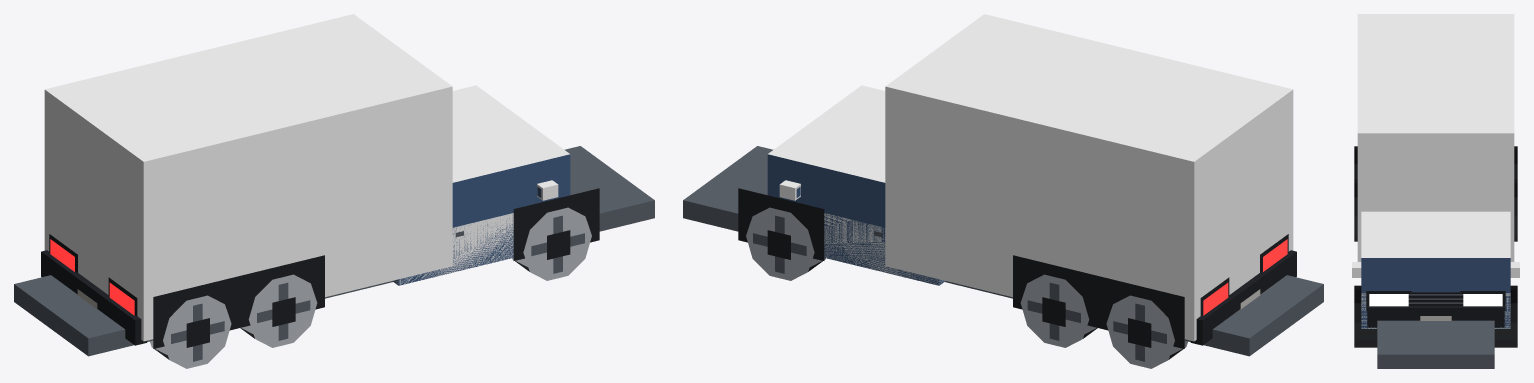
File: truck.glb
3 views of the same model, side by side, from view 1: azimuth 30°, elevation 25°; view 2: azimuth 150°, elevation 25°; view 3: azimuth 270°, elevation 25° (orthographic). The views are drawn at different scales.
Parts seen in each view (by area): view 1: truck; view 2: truck; view 3: truck.
Boxes of the visible parts, x1,y1,x2,y2 form: truck: (14,14,654,368); truck: (683,14,1323,368); truck: (1352,14,1519,368).
Bounding box in the file's own units: 0.66 × 0.24 × 0.214.
